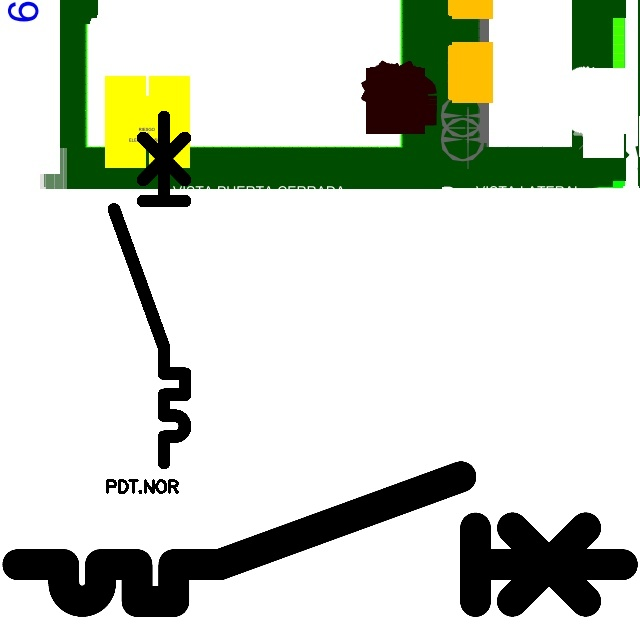interruptor_termomagnetico: (2, 461, 638, 617), (105, 108, 194, 472)
